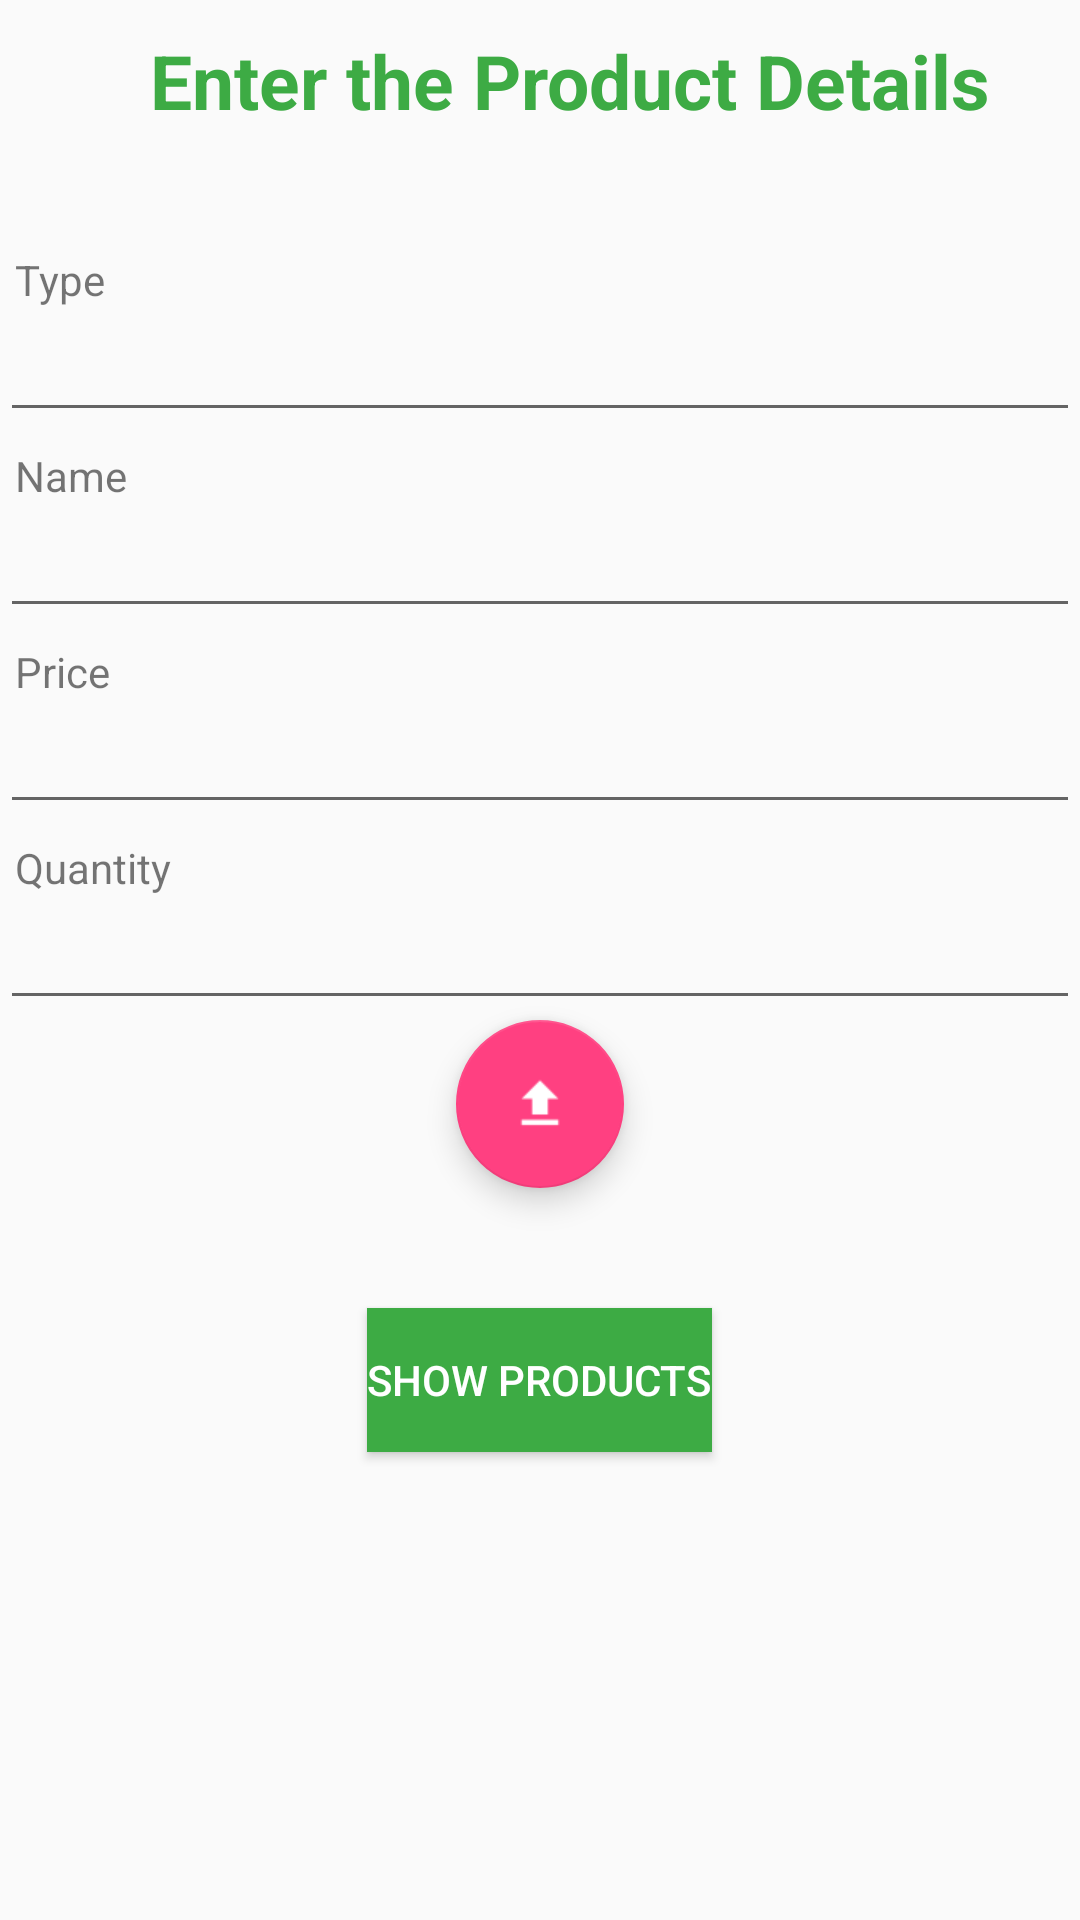

Named icons in this screenshot (1080*1920) and their bounding boxes, (x1, y1, x2, y2):
upload: (456, 1020, 624, 1188)
